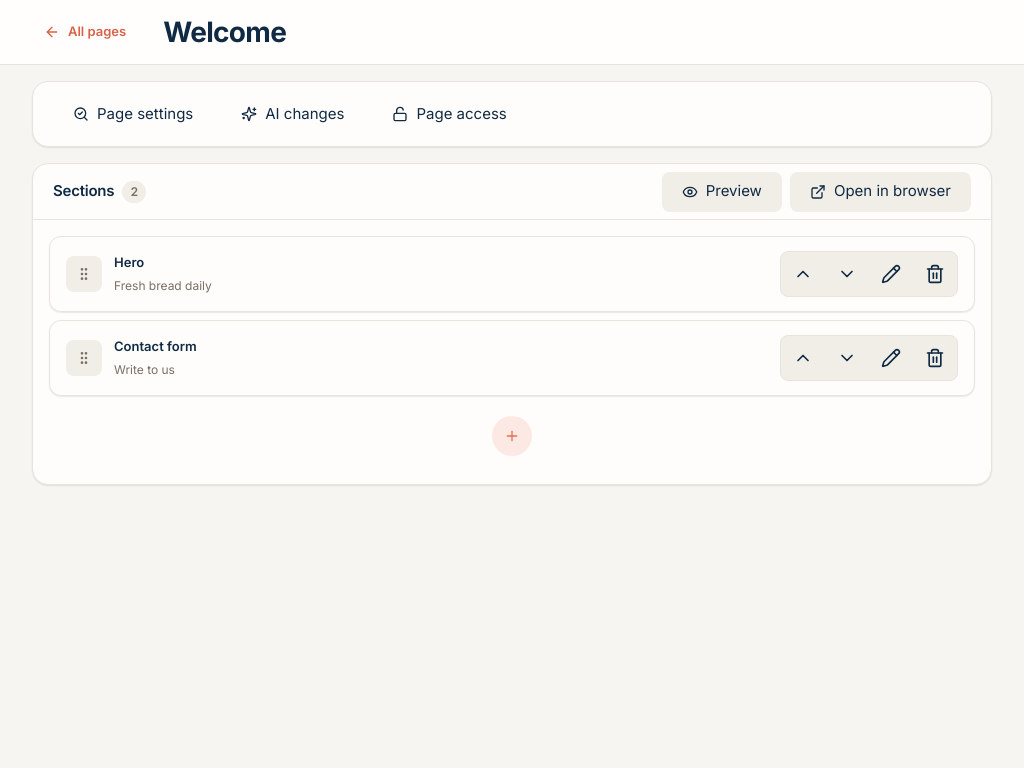
Test case: editing a section › the form opens prefilled and PUTs to the section's index
This screenshot has width=1024, height=768.
Expected: the text "Hero" is shown, [114, 253, 144, 273]
Click the button named "Edit Hero".
click(891, 274)  # box [871, 254, 911, 294]
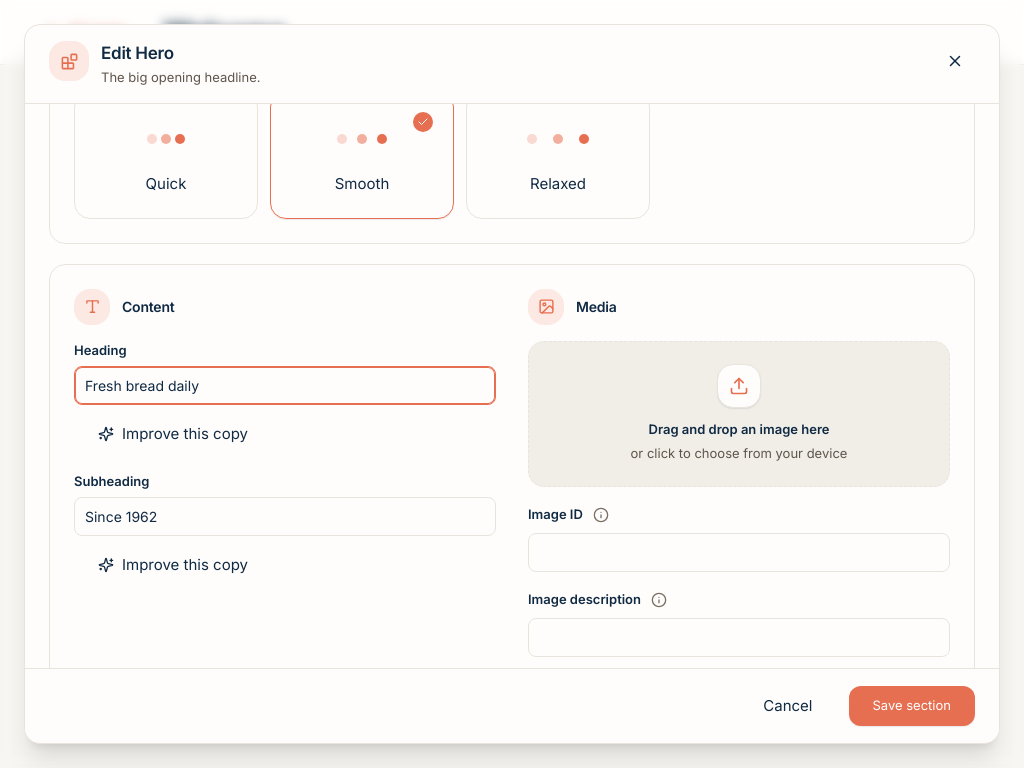
Result: the field labelled "Heading" holds "Fresh bread daily"
Replace the text in the field labelled "Heading" with "Warm bread daily" at (285, 386), box [74, 366, 496, 405]
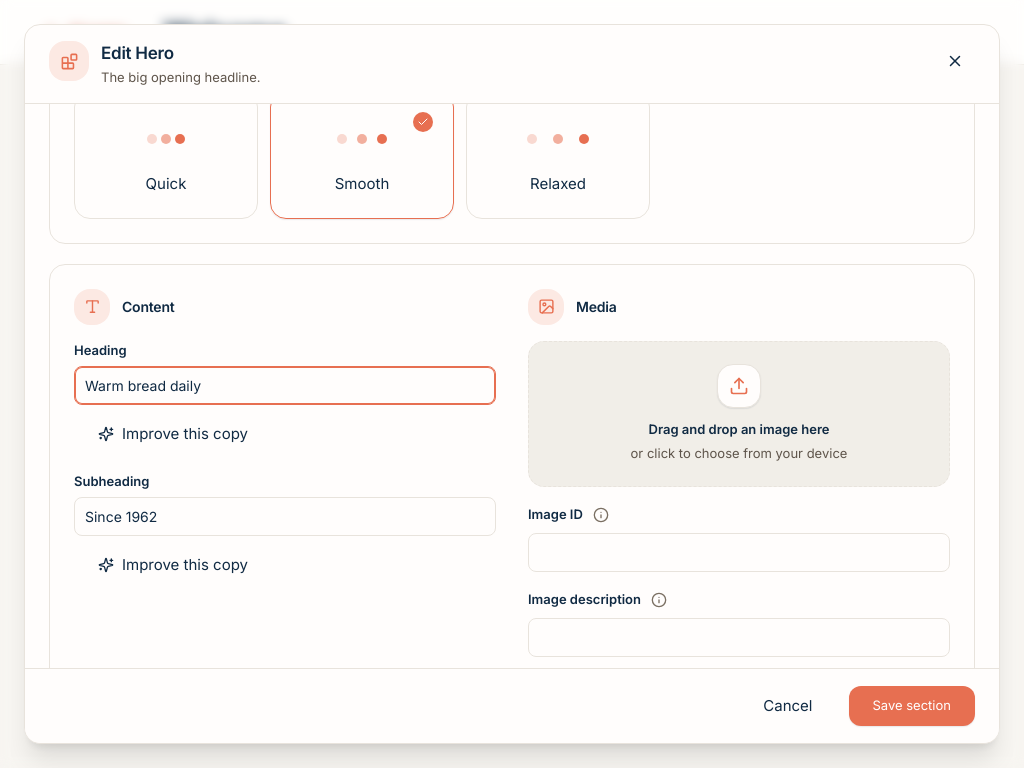
Click the button "Save section".
click(912, 706)  # box [848, 686, 975, 726]
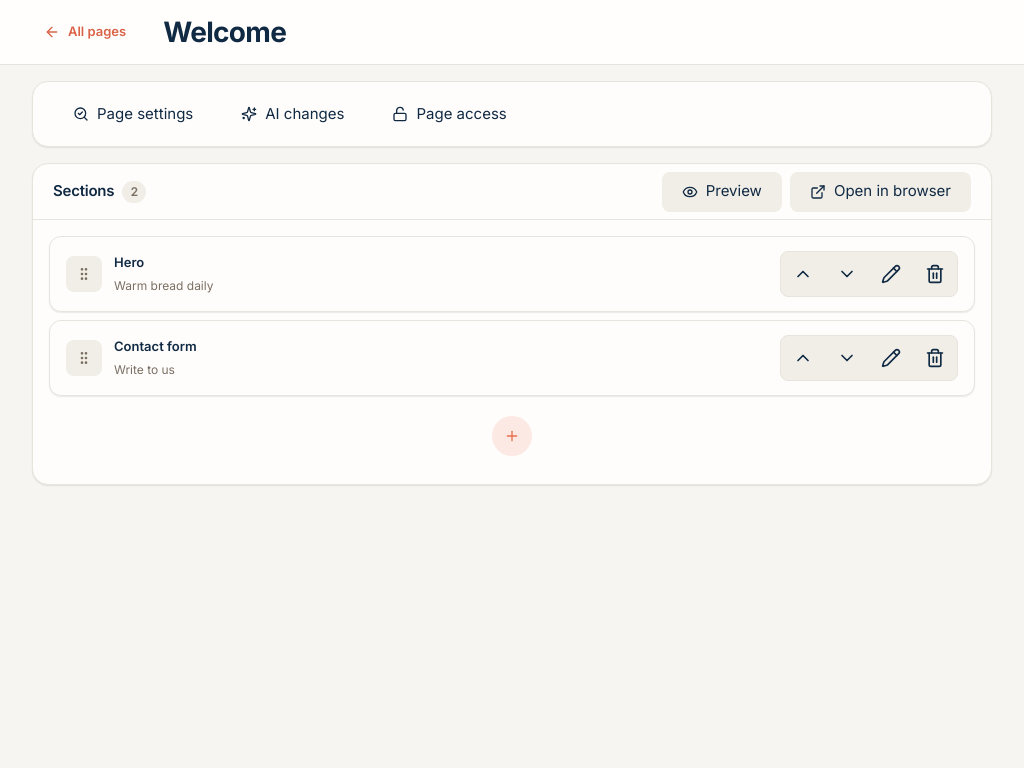
Result: the text "Warm bread daily" is shown at [114, 278, 214, 293]
